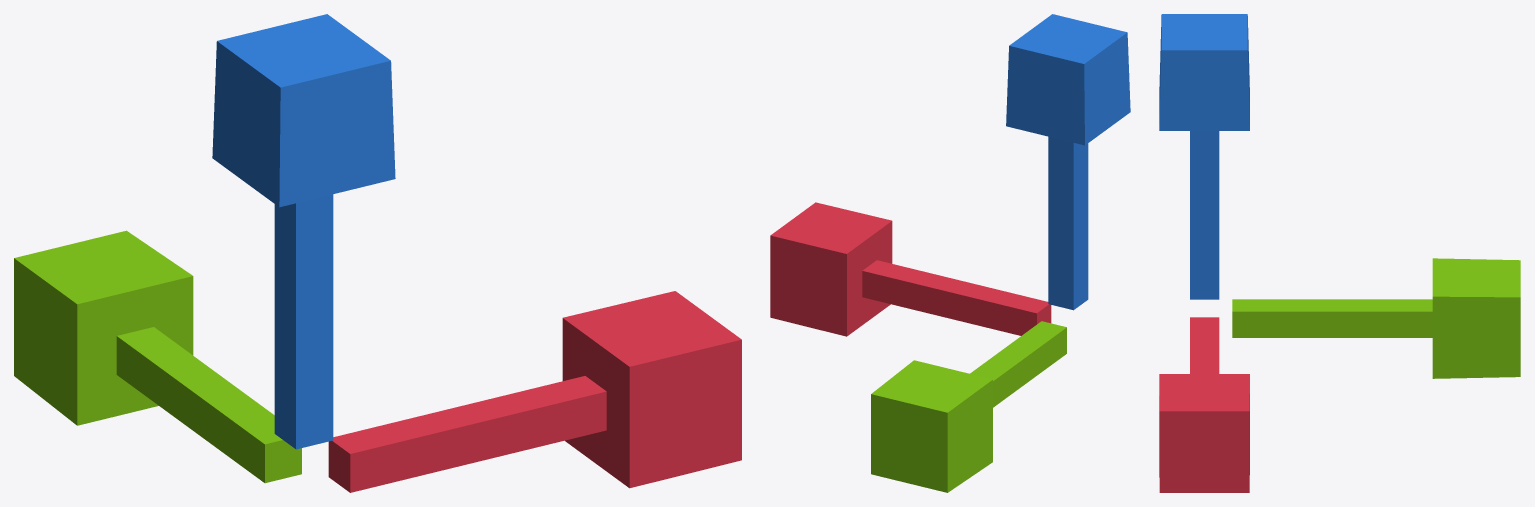
File: gizScale.glb
The picture shows the model from 3 angles, left to right: view 1: azimuth 30°, elevation 25°; view 2: azimuth 150°, elevation 25°; view 3: azimuth 270°, elevation 25°; orthographic projection. The views are drawn at different scales.
Parts seen in each view (by area): view 1: x, z, y; view 2: z, x, y; view 3: y, z, x.
Boxes of the visible parts, <box> form: x: <box>328,291,741,492</box>; z: <box>212,14,395,449</box>; y: <box>14,230,301,483</box>; z: <box>1006,14,1130,310</box>; x: <box>770,202,1051,336</box>; y: <box>871,321,1066,492</box>; y: <box>1232,258,1520,378</box>; z: <box>1159,14,1249,299</box>; x: <box>1159,317,1249,492</box>.
Bounding box in the file's own units: 2.79 × 2.79 × 2.79.
